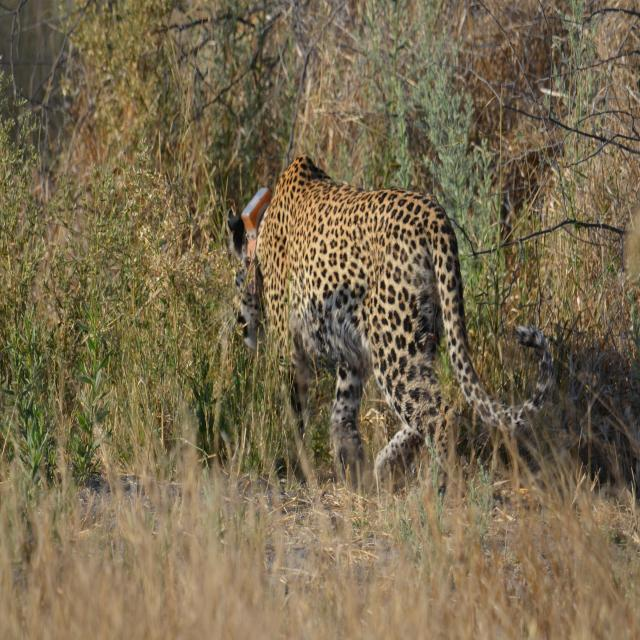Leopard: (236, 152, 536, 486)
